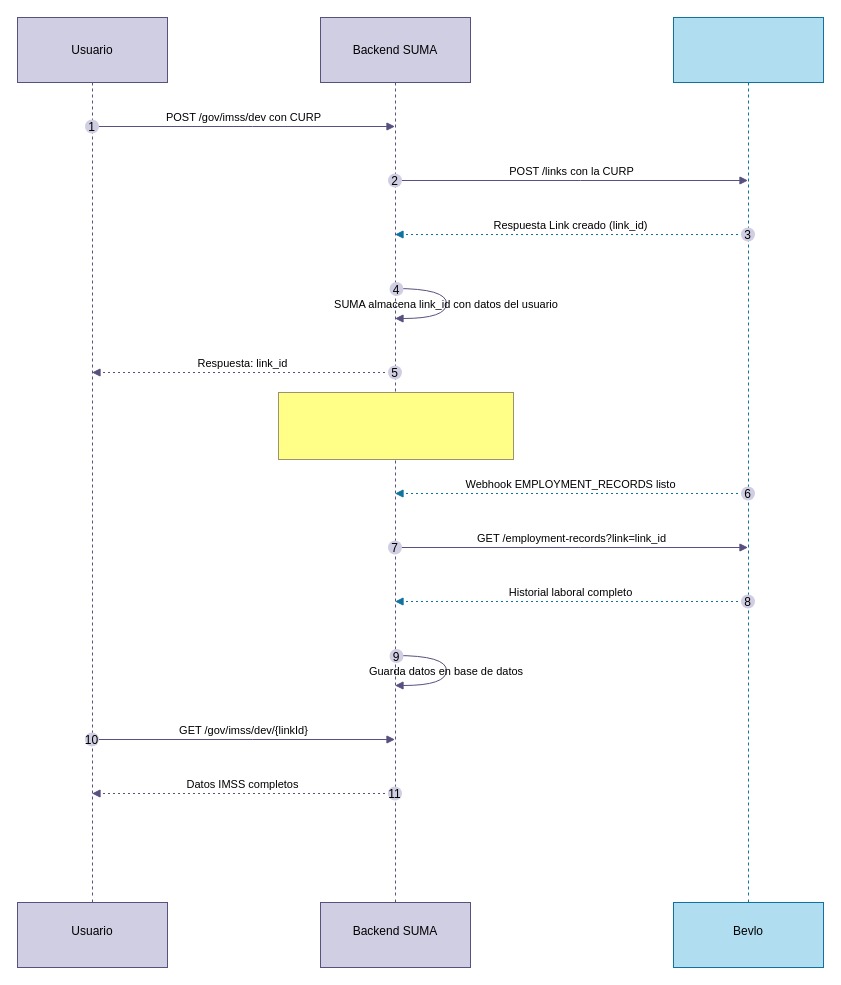
Image size: 841x985. Some labels were removed from this diagram. The box of each missing label's shape, as (x1, y1, x2, y2) in pixels:
Belvo: (672, 16, 824, 898)
SUMA no realiza más llamadas hasta recibir el webhook: (278, 392, 514, 460)
